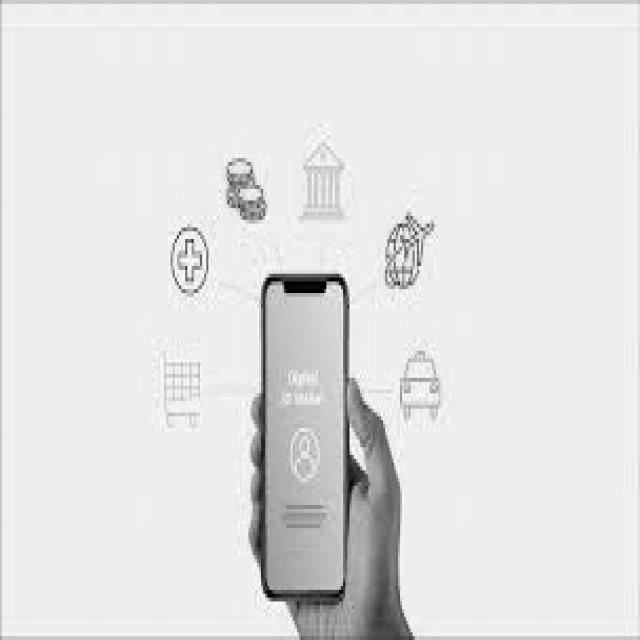No gun_phone: (262, 275, 352, 602)
